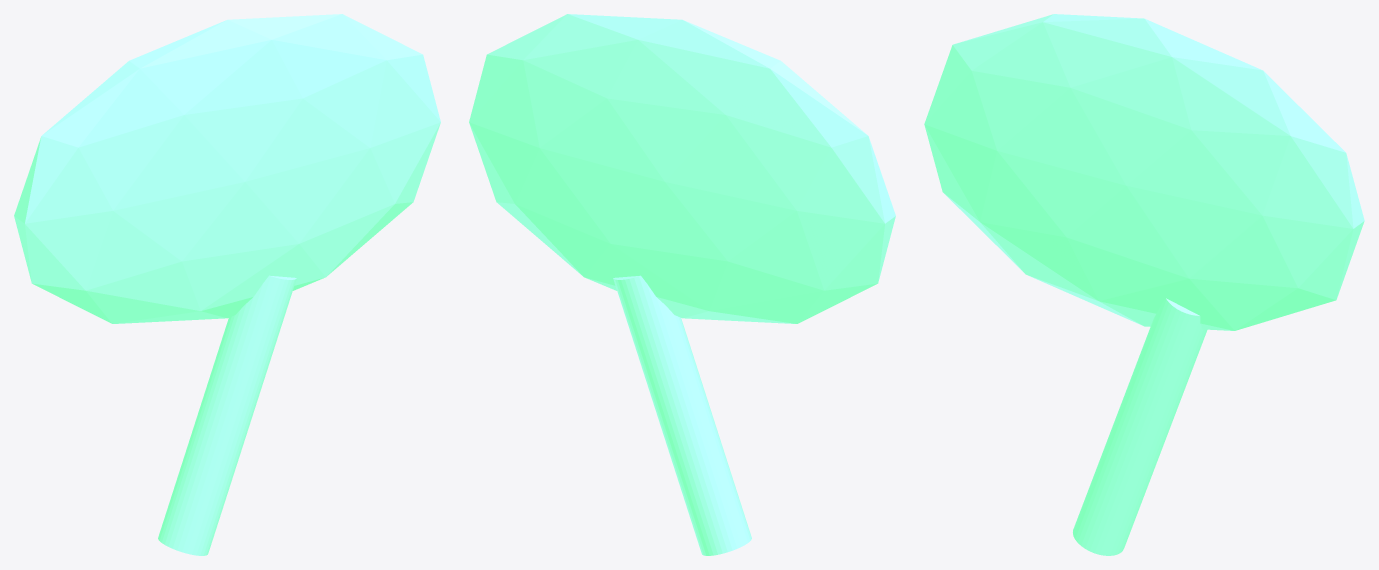
The model's file is proj_grass.glb.
The picture shows the model from 3 angles, left to right: view 1: azimuth 30°, elevation 25°; view 2: azimuth 150°, elevation 25°; view 3: azimuth 330°, elevation 25°; orthographic projection. The views are drawn at different scales.
Parts seen in each view (by area): view 1: proj_grass; view 2: proj_grass; view 3: proj_grass.
Part boxes in pixels (left/top/right/bottom): proj_grass: left=14, top=14, right=440, bottom=555; proj_grass: left=469, top=14, right=895, bottom=555; proj_grass: left=924, top=14, right=1364, bottom=555.
Size of the model in its own units: 0.5469 by 0.6575 by 0.08.
